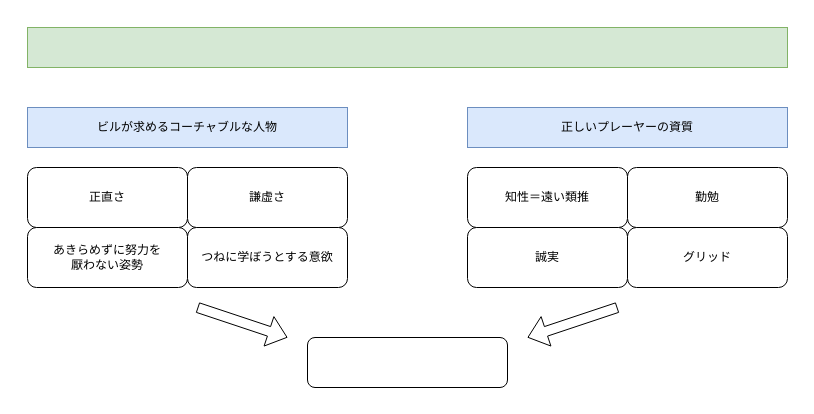
Some shapes in this 814 by 414 pixel diagram are drawn without their labels. Each missing label, with the centre of its shape:
1兆ドルコーチ コーチャブルな人物と正しいプレーヤー: (x=407, y=47)
チームに加わる人を決める: (x=407, y=362)
